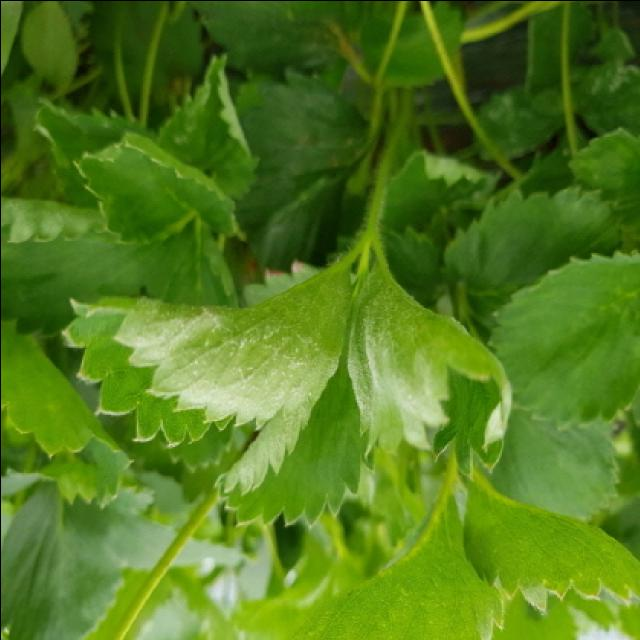Powdery Mildew Leaf: (61, 263, 352, 449), (346, 259, 514, 478), (211, 341, 366, 530)
